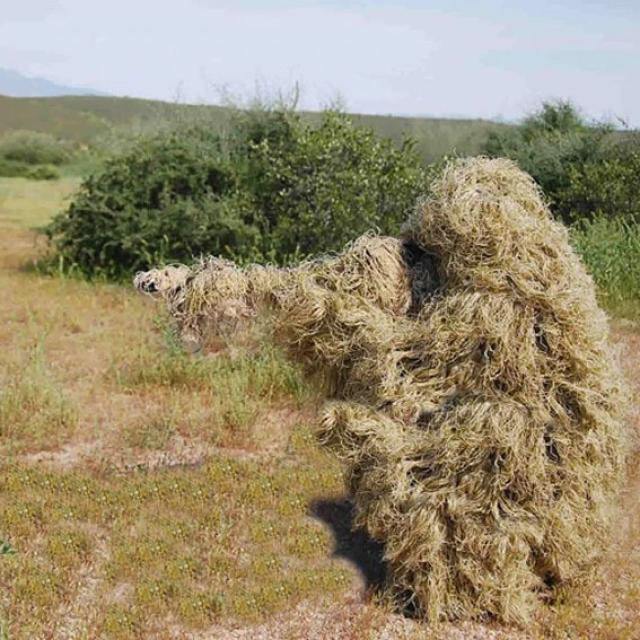Camouflage: (135, 156, 630, 623)
